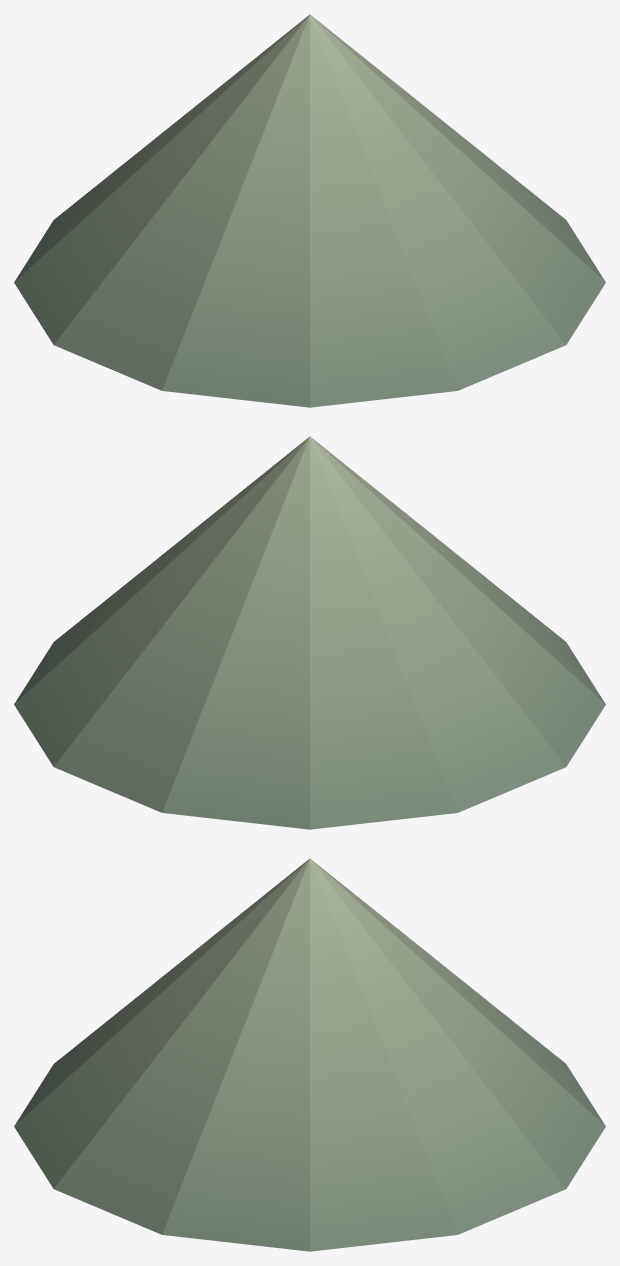
File: mountain.glb
3 views of the same model, one above another, from view 1: azimuth 30°, elevation 25°; view 2: azimuth 150°, elevation 25°; view 3: azimuth 270°, elevation 25° (orthographic).
Parts seen in each view (by area): view 1: NormalizedMountain; view 2: NormalizedMountain; view 3: NormalizedMountain.
Boxes of the visible parts, left/top/right/bottom form: NormalizedMountain: left=14, top=14, right=605, bottom=407; NormalizedMountain: left=14, top=436, right=605, bottom=829; NormalizedMountain: left=14, top=858, right=605, bottom=1251.
Size of the model in its own units: 2 by 1 by 2.
